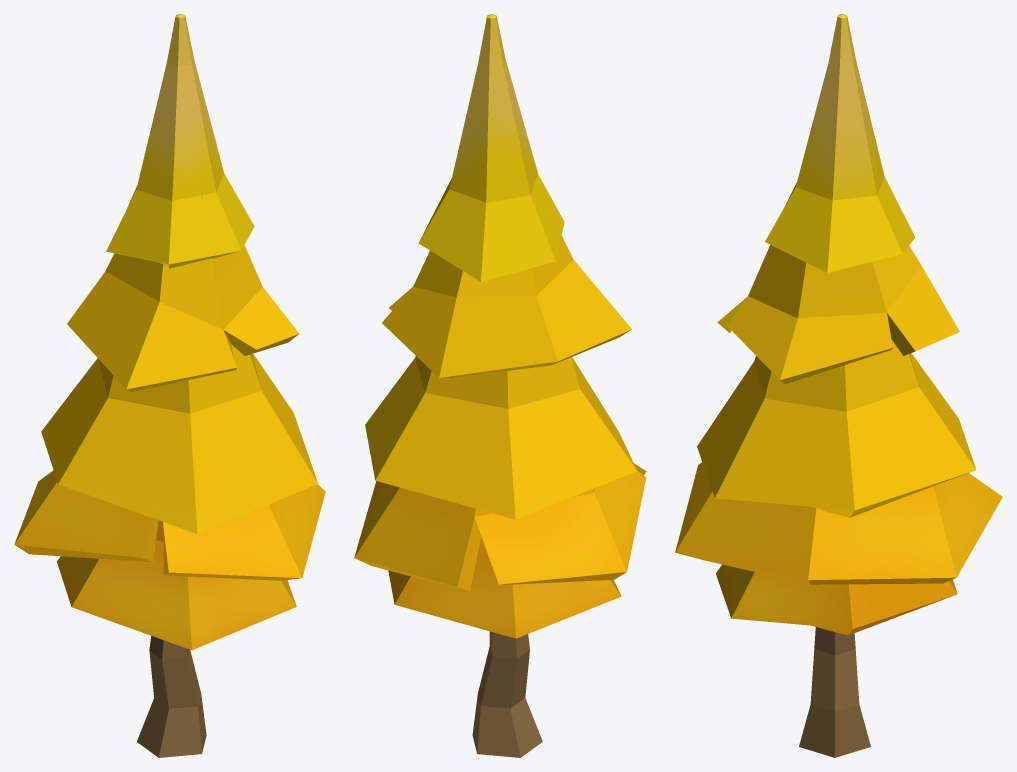
File: SM_Tree_03.fbx
The picture shows the model from 3 angles, left to right: view 1: azimuth 30°, elevation 25°; view 2: azimuth 150°, elevation 25°; view 3: azimuth 270°, elevation 25°; orthographic projection.
Parts seen in each view (by area): view 1: tree03_LOD0; view 2: tree03_LOD0; view 3: tree03_LOD0.
Boxes of the visible parts, x1,y1,x2,y2 form: tree03_LOD0: (14,14,325,757); tree03_LOD0: (354,14,646,757); tree03_LOD0: (675,14,1002,757).
Size of what is drawn, in the model's own units: 797 by 1976 by 802.
Materials: 1 (1 with a texture image).
